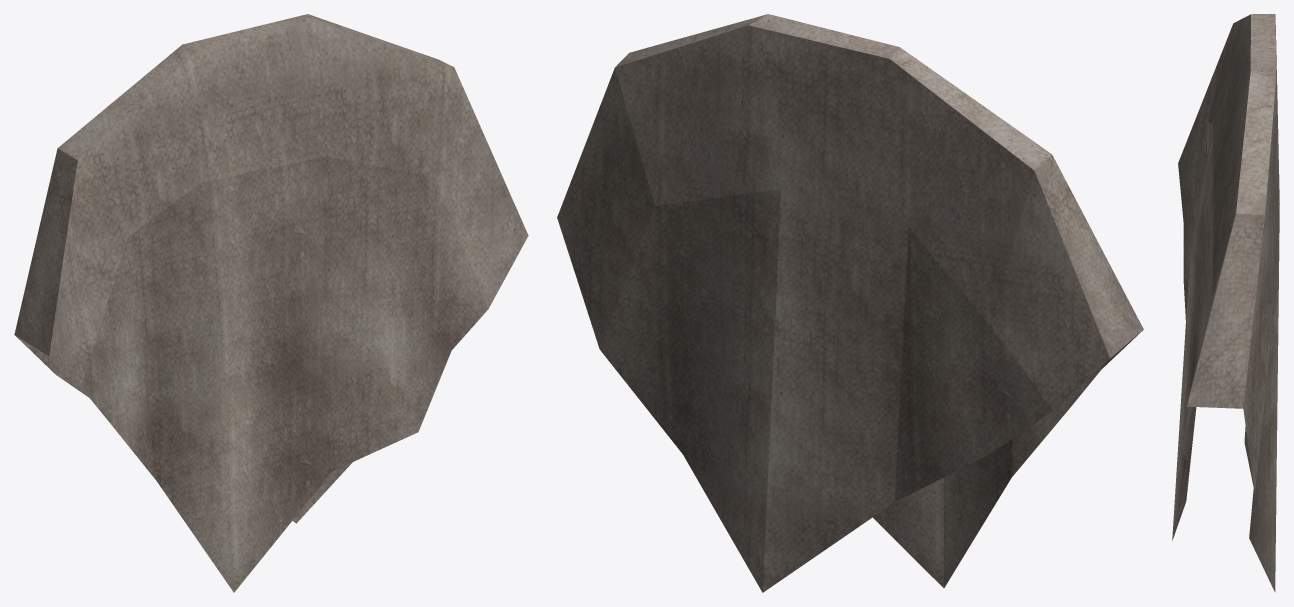
Rendered from Mirror.Cover_Short.fbx.
3 renders of one model, left to right at view 1: azimuth 30°, elevation 25°; view 2: azimuth 150°, elevation 25°; view 3: azimuth 270°, elevation 25°, orthographic. The views are drawn at different scales.
Visible parts, largest first — view 1: Mirror.Cover_Short; view 2: Mirror.Cover_Short; view 3: Mirror.Cover_Short.
Part boxes in pixels (x1,y1,x2,y2): Mirror.Cover_Short: (14,14,528,592); Mirror.Cover_Short: (557,14,1143,592); Mirror.Cover_Short: (1172,14,1279,592).
Bounding box in the file's own units: 89.02 × 88.01 × 16.23.
